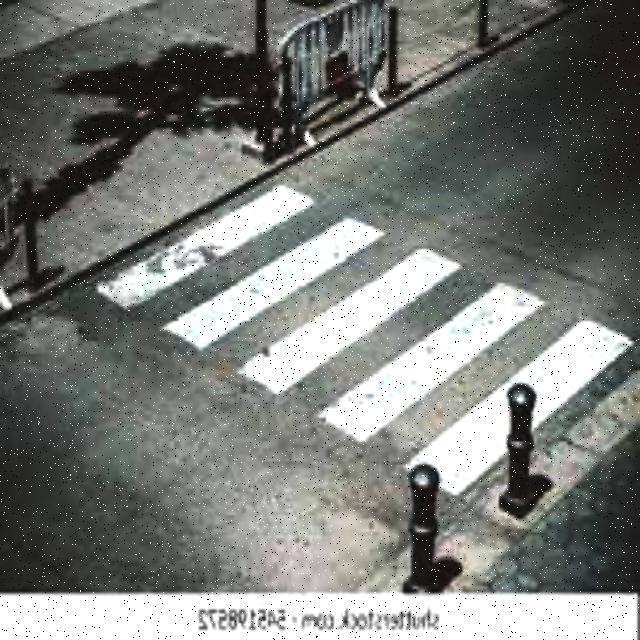Pedestrian crosswalk: (60, 185, 640, 530)
